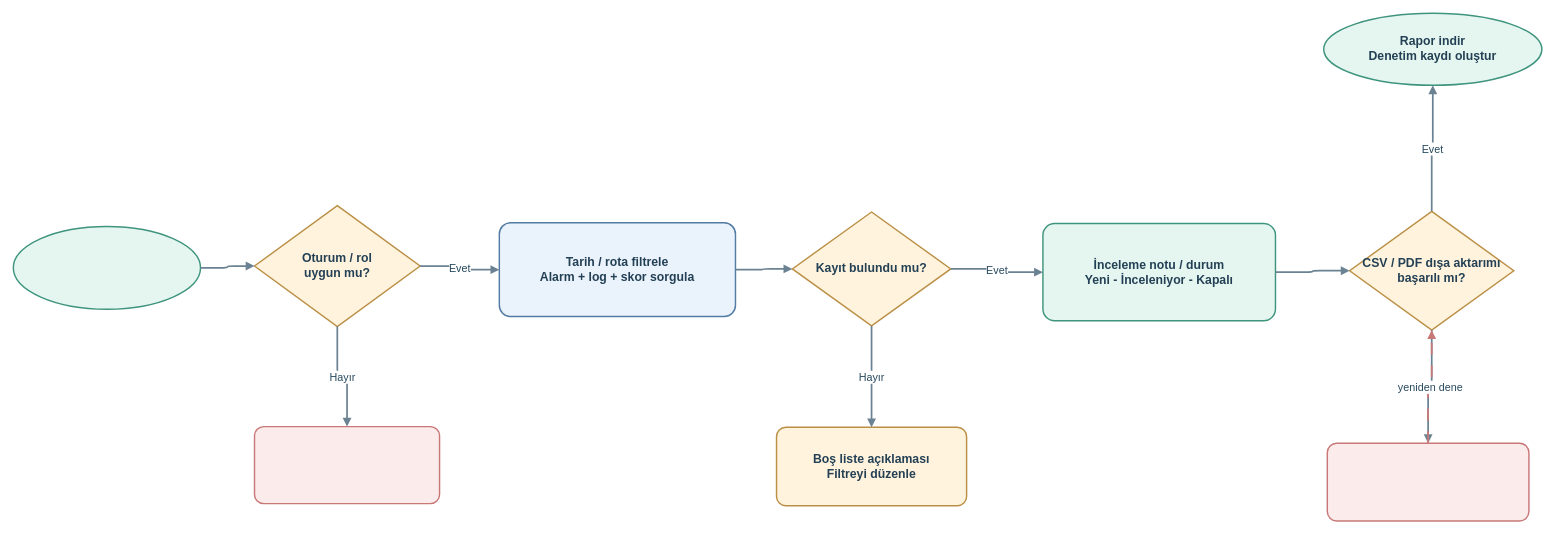
The diagram is 1554 pixels wide and 534 high, and some of its shapes have lost their labels. Here are the shapes that lost their labels. From the top down, the box of each, then its label:
(12, 225, 201, 310): Analist paneli Alarm seçimi
(253, 426, 440, 504): 401 / 403 İşlem reddi
(1326, 442, 1529, 521): İşlem hatası Uyarı + tekrar deneme
